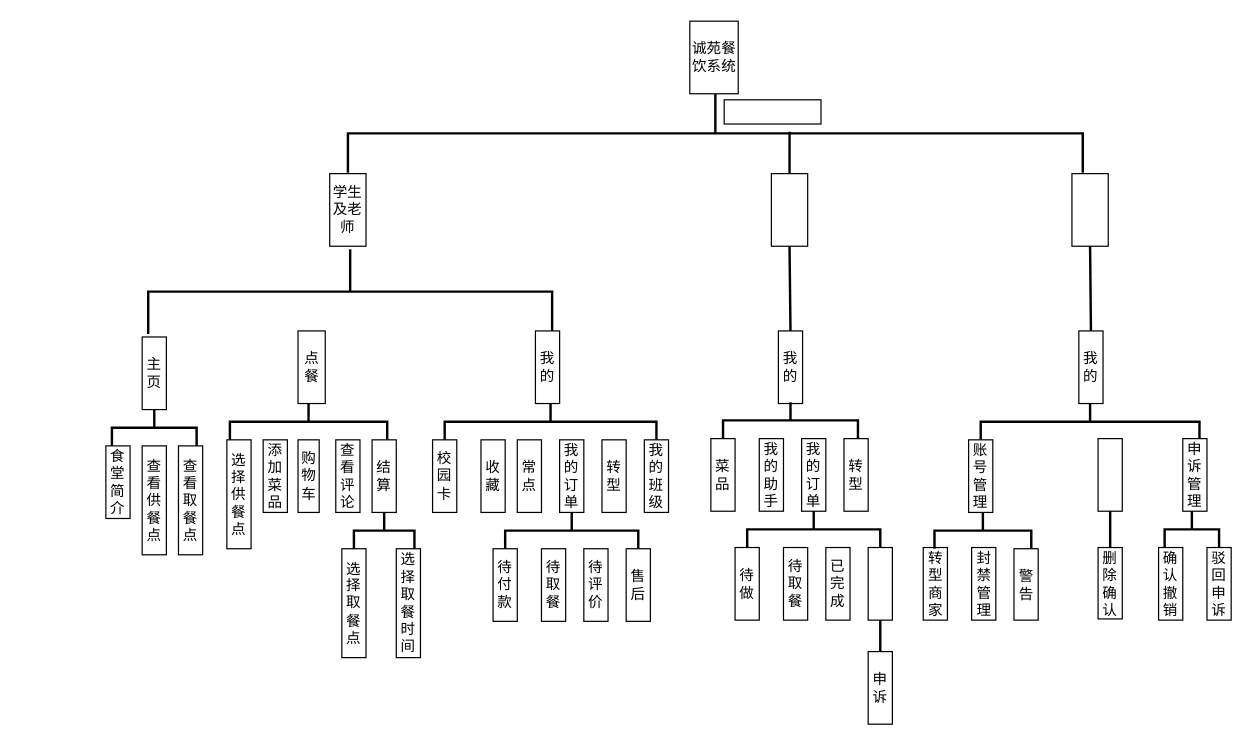
This 1252x745 diagram has some shape labels left out. The shapes that lost their labels are listed below. From the top down, each one's centre as x and y in pixels, then its label:
the point at 772,111: 账户登录
the point at 789,209: 商家
the point at 1089,209: 管理员
the point at 1109,474: 评论管理
the point at 879,583: 查看评价
